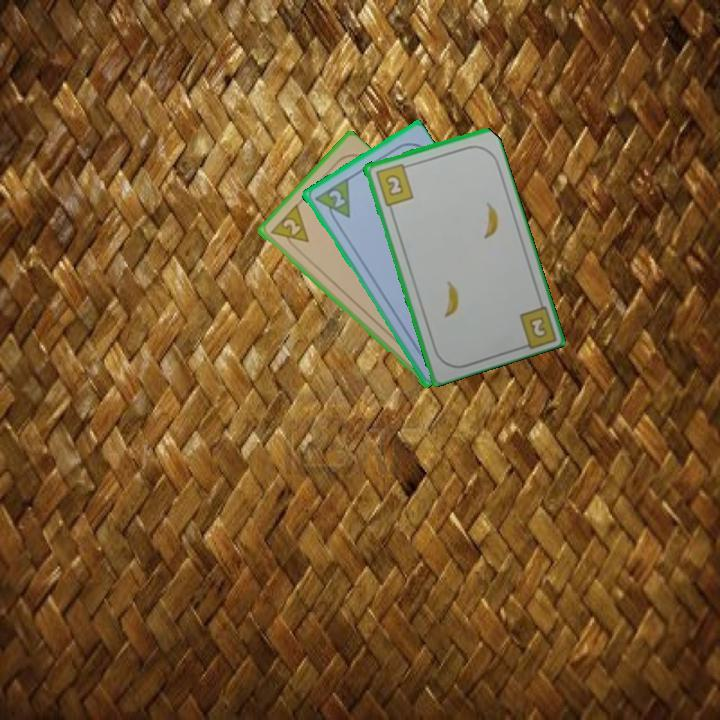2b: (372, 160, 416, 208), (525, 313, 550, 341)
2p: (265, 202, 312, 254), (310, 175, 353, 227)
